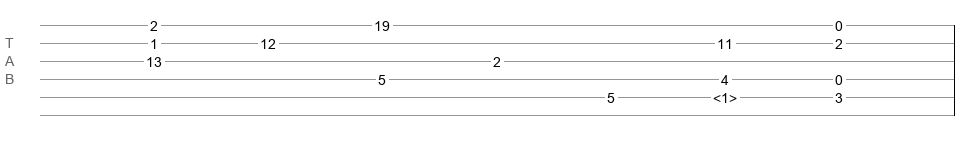0: (835, 18, 843, 28), (835, 72, 843, 82)
1: (150, 36, 158, 46)
11: (717, 36, 733, 46)
12: (260, 36, 276, 46)
13: (146, 54, 162, 64)
19: (374, 18, 390, 28)
2: (150, 18, 158, 28), (493, 54, 501, 64), (835, 36, 843, 46)
3: (835, 90, 843, 100)
4: (721, 72, 729, 82)
5: (378, 72, 386, 82), (607, 90, 615, 100)
harmonic: (713, 90, 737, 100)
